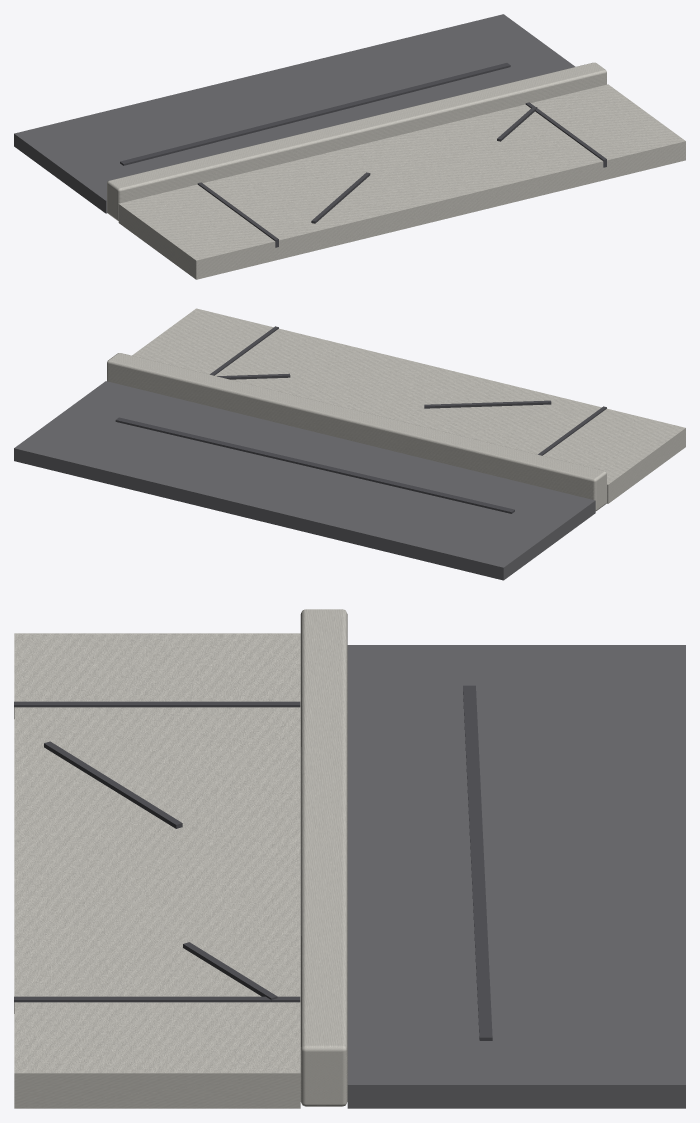
The model's file is ConcreteKerbSection.glb.
3 renders of one model, top to bottom at view 1: azimuth 30°, elevation 25°; view 2: azimuth 150°, elevation 25°; view 3: azimuth 270°, elevation 25°, orthographic. The views are drawn at different scales.
Parts seen in each view (by area): view 1: concrete-kerb-section; view 2: concrete-kerb-section; view 3: concrete-kerb-section.
Boxes of the visible parts, box(x1,y1,x2,y2) form: concrete-kerb-section: box(14, 14, 685, 279); concrete-kerb-section: box(14, 308, 685, 580); concrete-kerb-section: box(14, 609, 685, 1108).
Size of the model in its own units: 4 by 0.2599 by 2.58.
3 materials, 1 textured.
